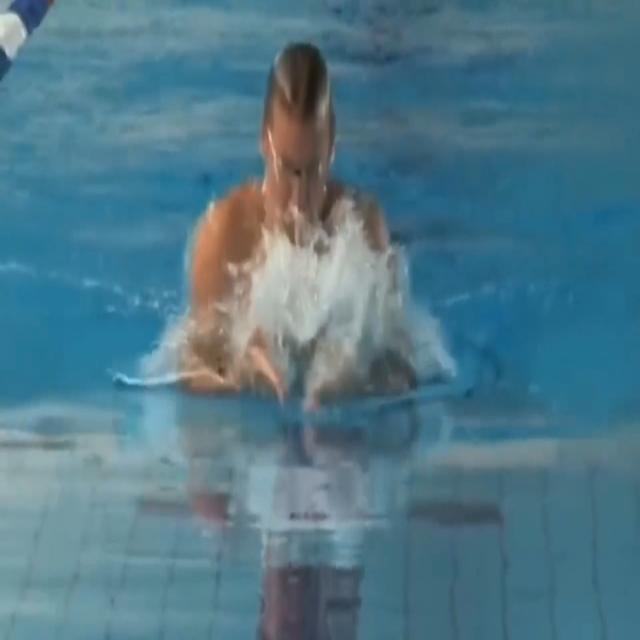Swimming: (181, 39, 424, 409)
